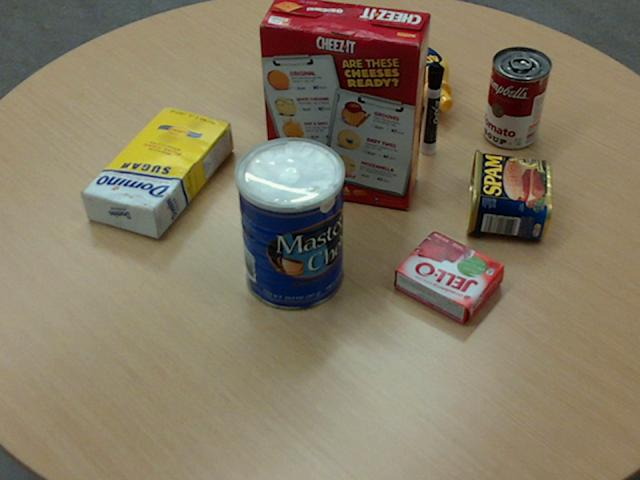cracker_box: (257, 0, 429, 208)
gelatin_box: (394, 230, 506, 323)
large_marker: (420, 63, 443, 153)
master_chef_can: (234, 137, 344, 310)
mug: (261, 35, 338, 127)
mustard_bottle: (338, 12, 452, 110)
potted_meat_can: (465, 148, 550, 238)
sugar_box: (80, 105, 231, 237)
tomato_soup_can: (483, 46, 550, 148)
tuna_fish_can: (266, 23, 329, 77)
